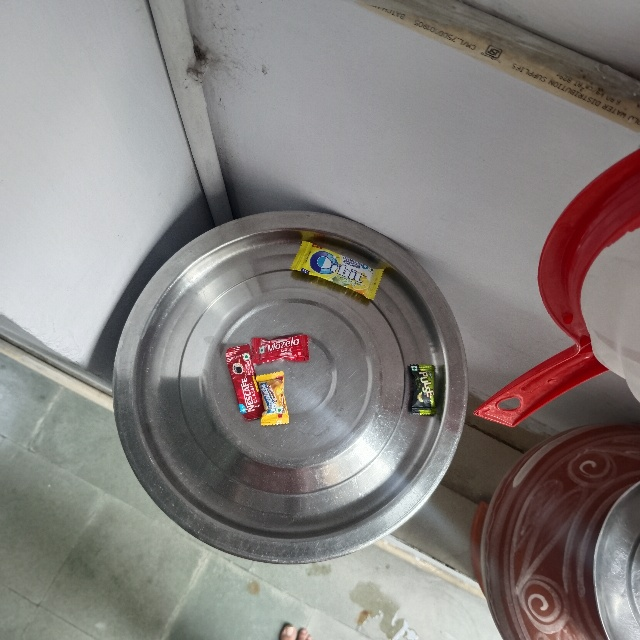Alpenlibe Creamfills: (258, 374, 289, 425)
Mazelo: (253, 335, 308, 362)
Nescafe Coffee: (223, 348, 252, 422)
Orbit: (299, 239, 391, 274)
Pulse: (410, 363, 439, 415)
